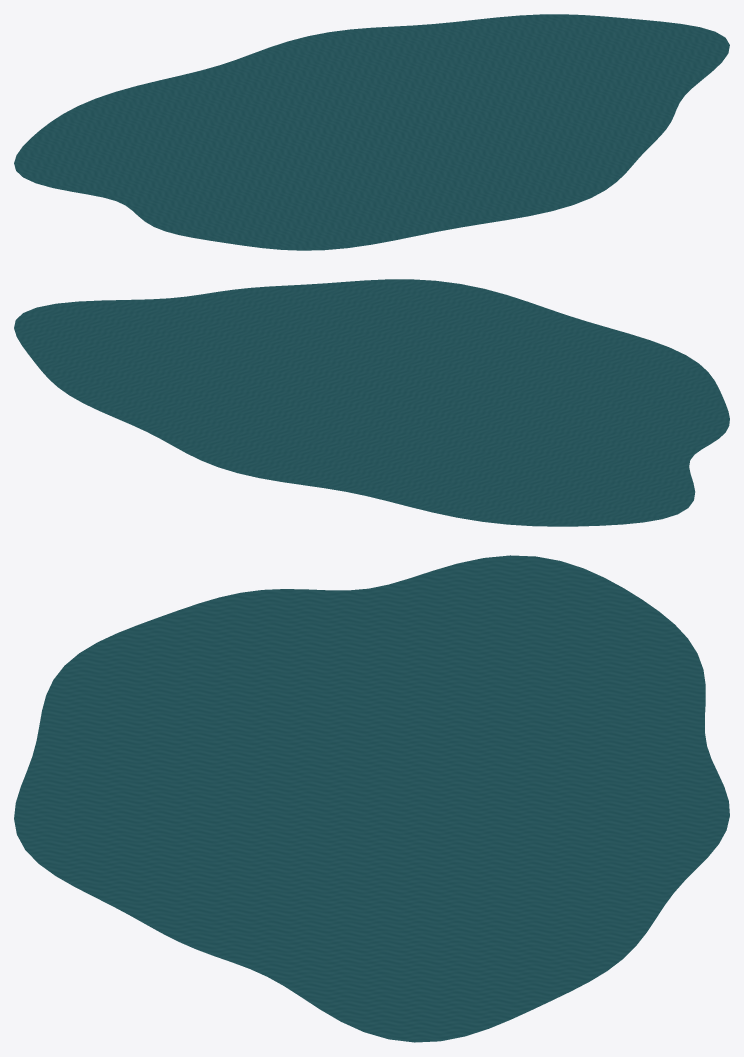
File: eastern_lake_water.dae
The picture shows the model from 3 angles, top to bottom: view 1: azimuth 30°, elevation 25°; view 2: azimuth 150°, elevation 25°; view 3: azimuth 270°, elevation 25°; orthographic projection. The views are drawn at different scales.
Visible parts, largest first — view 1: Terrain; view 2: Terrain; view 3: Terrain.
Boxes of the visible parts, bbox=[...] form: Terrain: bbox=[14, 14, 729, 250]; Terrain: bbox=[14, 279, 729, 526]; Terrain: bbox=[14, 555, 729, 1042].
Bounding box in the file's own units: 278 × 173 × 0.
1 material, 1 textured.
